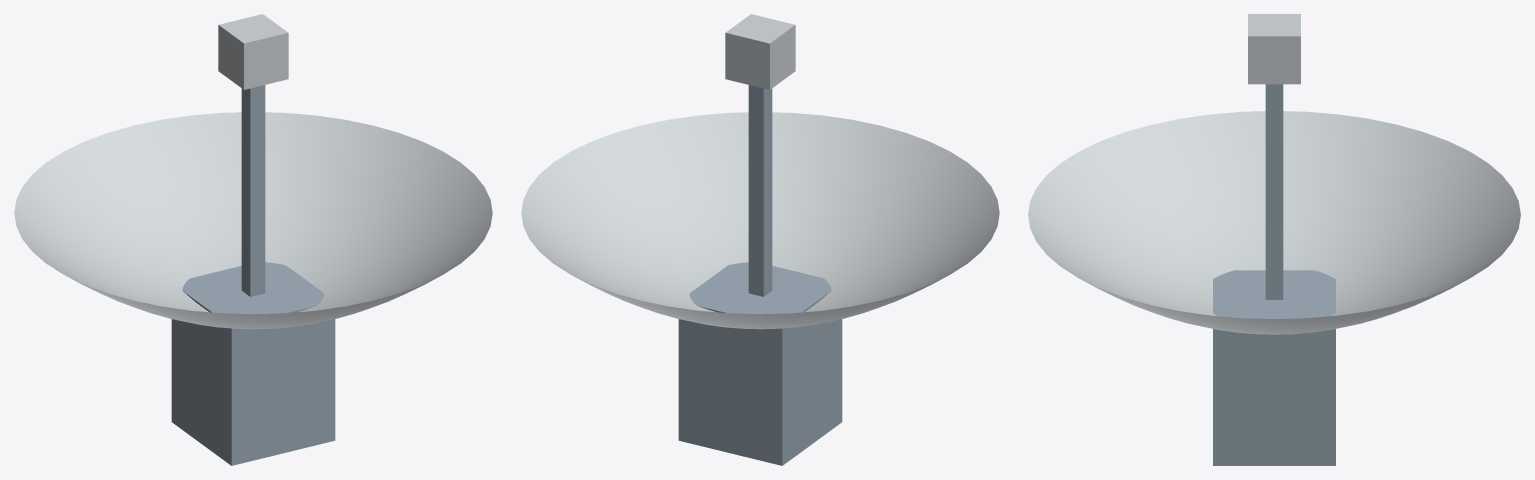
Rendered from Satellite Kit radio 1.glb.
3 renders of one model, left to right at view 1: azimuth 30°, elevation 25°; view 2: azimuth 150°, elevation 25°; view 3: azimuth 270°, elevation 25°, orthographic. The views are drawn at different scales.
Visible parts, largest first — view 1: ParabolicDish, AntennaMount, FeedMast, FeedHorn; view 2: ParabolicDish, AntennaMount, FeedMast, FeedHorn; view 3: ParabolicDish, AntennaMount, FeedMast, FeedHorn.
Part boxes in pixels (x1,y1,x2,y2): ParabolicDish: (14,112,492,329); AntennaMount: (171,262,335,465); FeedMast: (241,85,265,296); FeedHorn: (218,14,288,89); ParabolicDish: (521,112,999,329); AntennaMount: (678,262,842,465); FeedMast: (748,85,772,296); FeedHorn: (725,14,795,89); ParabolicDish: (1028,111,1520,334); AntennaMount: (1213,270,1335,465); FeedMast: (1265,84,1283,299); FeedHorn: (1248,14,1300,84).
Bounding box in the file's own units: 0.028 × 0.026 × 0.028.
